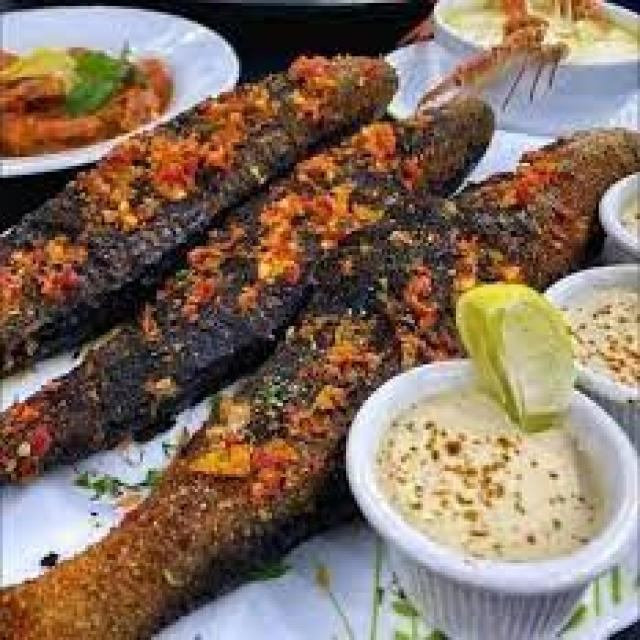Peixe: (0, 115, 637, 637), (0, 47, 398, 385)
